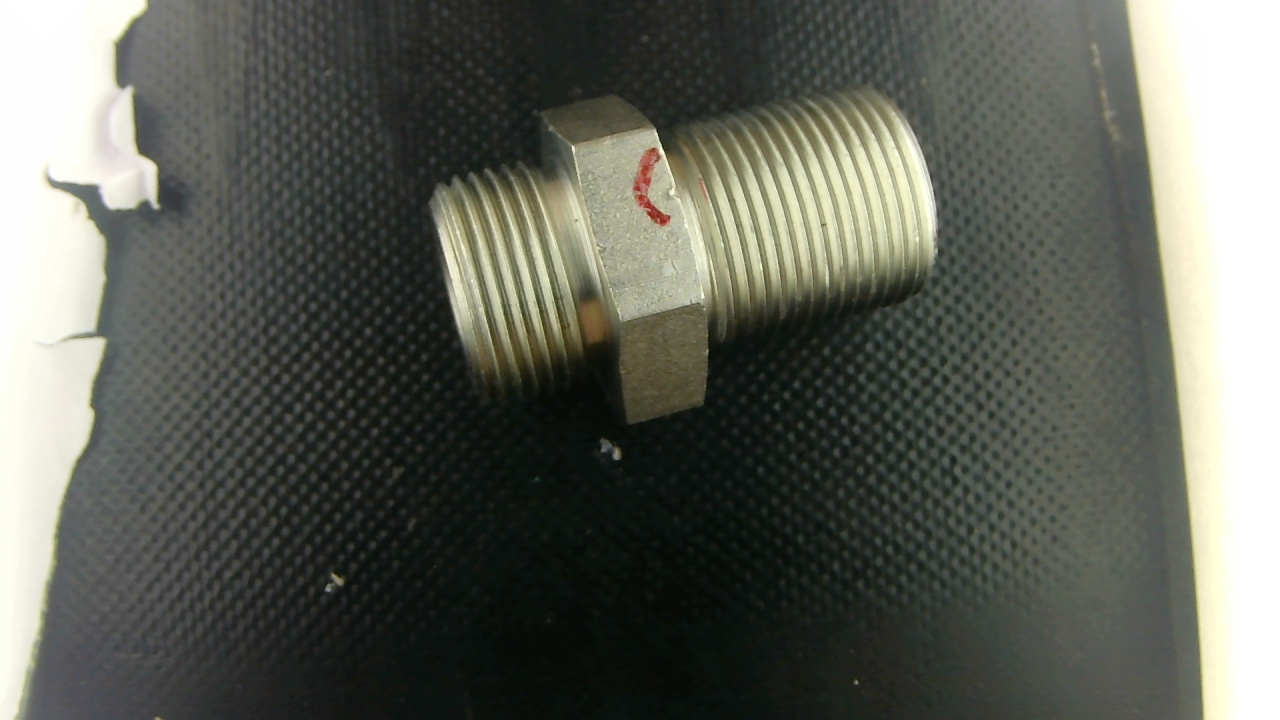SurfaceDent_Adaptor: (664, 185, 691, 207)
